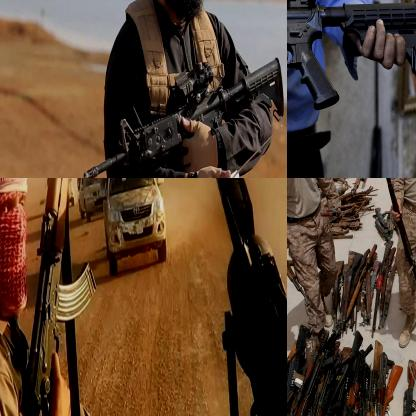rifle: (83, 53, 286, 177), (183, 178, 286, 388), (20, 178, 99, 415), (287, 0, 415, 110), (375, 178, 415, 300), (317, 344, 352, 415), (348, 245, 379, 325), (336, 250, 366, 326), (370, 242, 390, 342), (341, 341, 368, 415), (309, 348, 337, 415), (287, 236, 311, 310), (368, 342, 389, 415), (378, 246, 395, 335), (381, 363, 405, 415), (401, 357, 415, 415), (385, 257, 396, 327)
